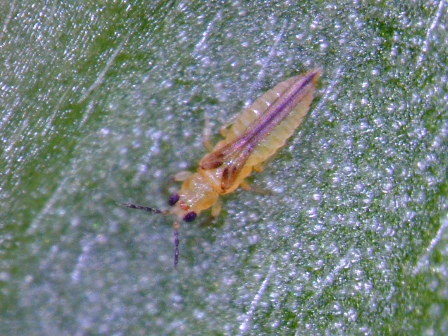Thrips: (111, 45, 336, 276)
